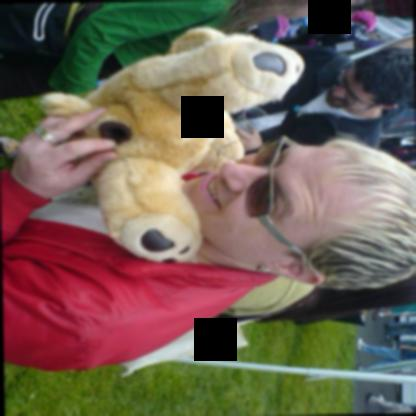handbag: (0, 2, 103, 64)
